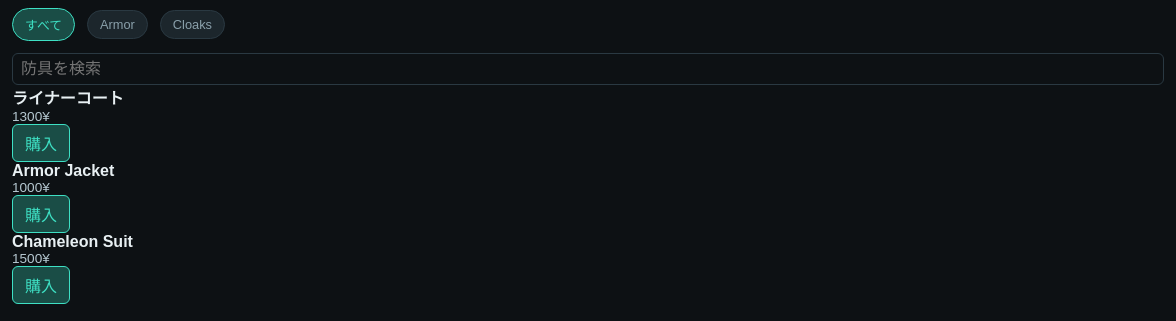
Scenario: CatalogPicker › filters by category chip, and only offers chips that have rows
This screenshot has width=1176, height=321.
Click the button "Armor" at [117, 24], box [87,10,148,39]
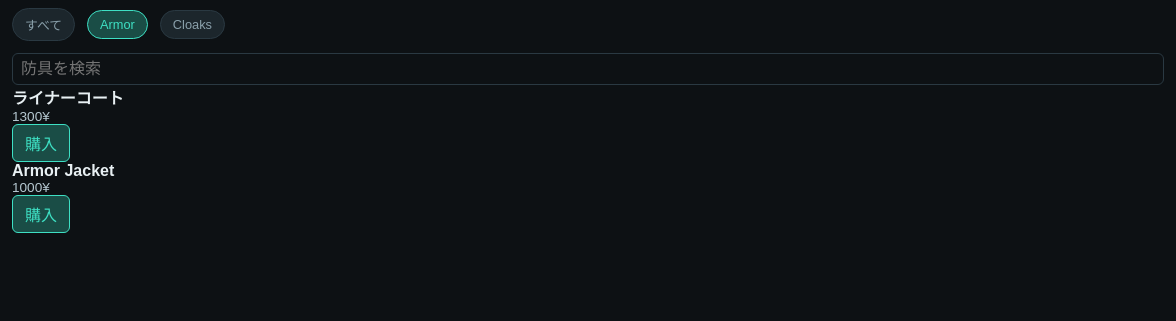
Expected: the text "ライナーコート" is shown, [12,90,124,107]
Click the button "Cloaks" at [192, 24], box [160,10,225,39]
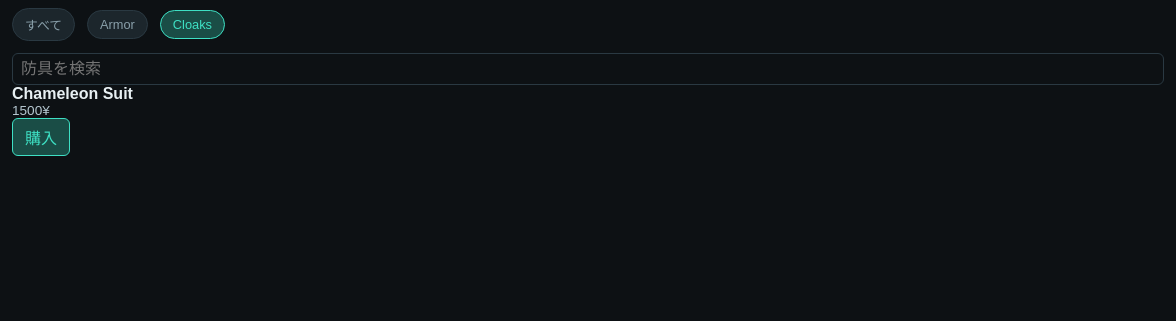
Result: the text "Chameleon Suit" is shown at [12,85,133,102]
